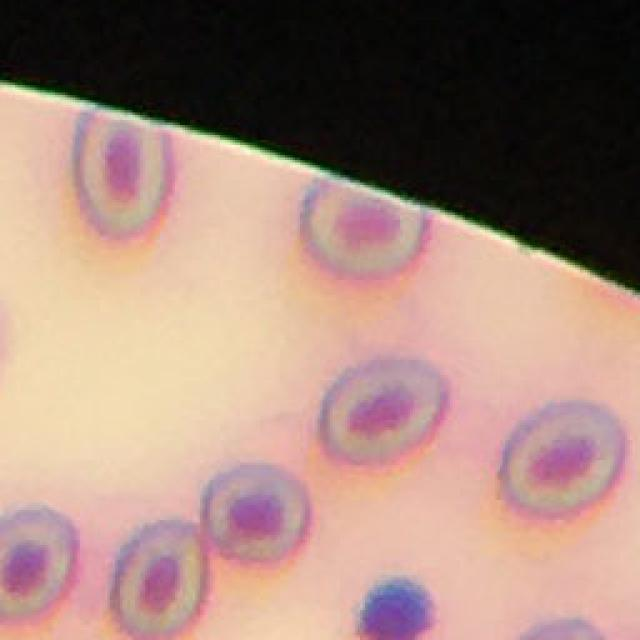RBC: (496, 400, 626, 524), (320, 358, 451, 465), (299, 176, 430, 278), (72, 109, 173, 238), (109, 519, 209, 639), (200, 462, 309, 563), (0, 509, 76, 618)
WBC: (357, 578, 434, 637)
